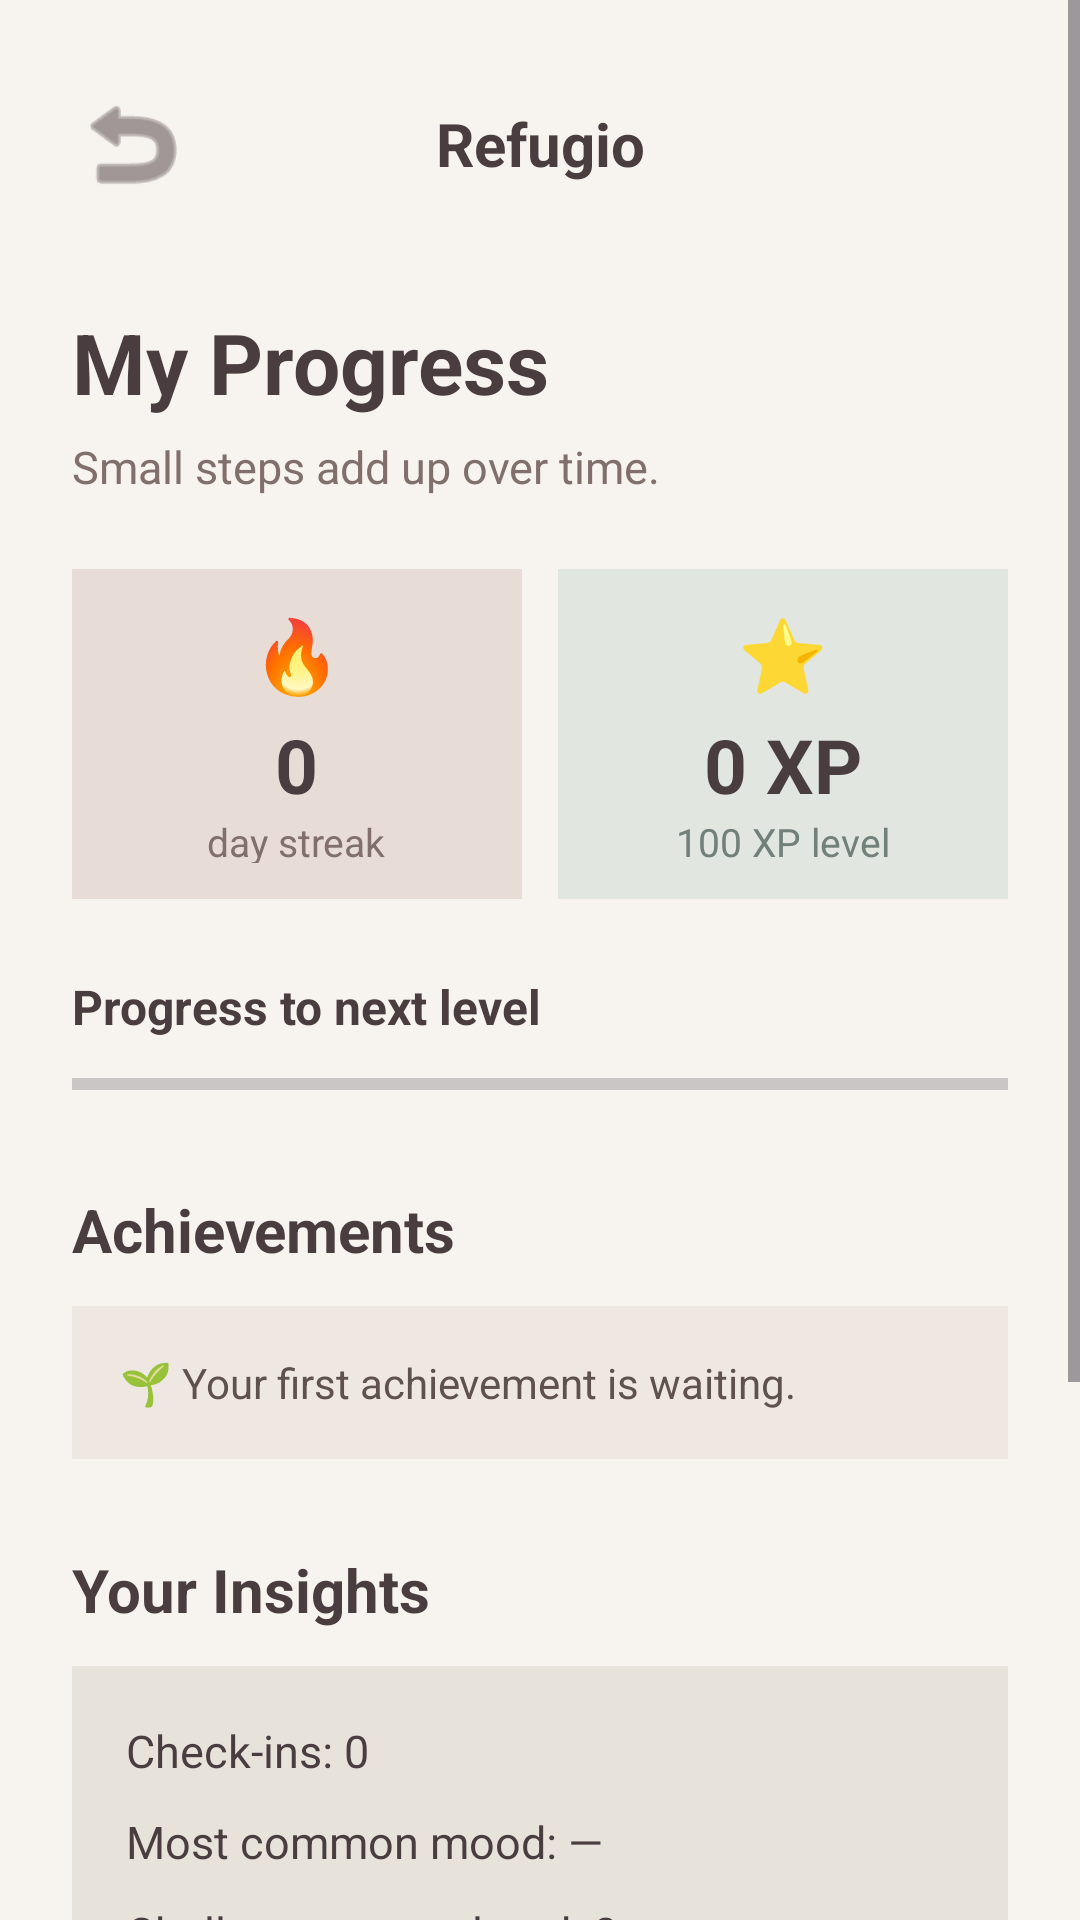

Named icons in this screenshot (1080*1920) and their centers, (x,y):
Back: (134,145)
